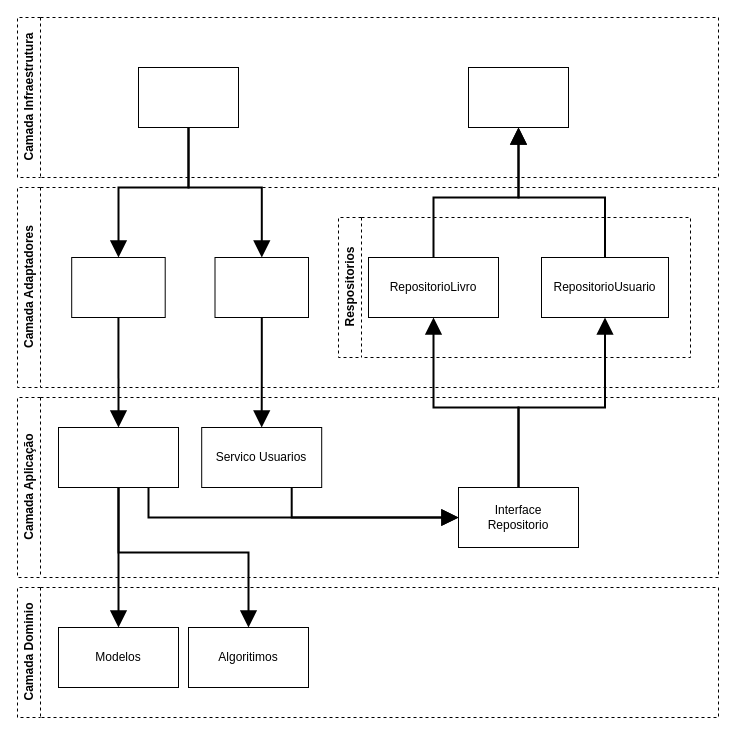
Image size: 736x735. Some labels were removed from this diagram. Here are the shapes that lost their labels. From the top down, the centre of each, then its label:
the point at 188,97: ConsoleUI
the point at 518,97: Estruturas Dados em Memoria
the point at 118,287: Controlador Livros
the point at 261,287: Controlador Usuarios
the point at 118,457: Servico Livros
